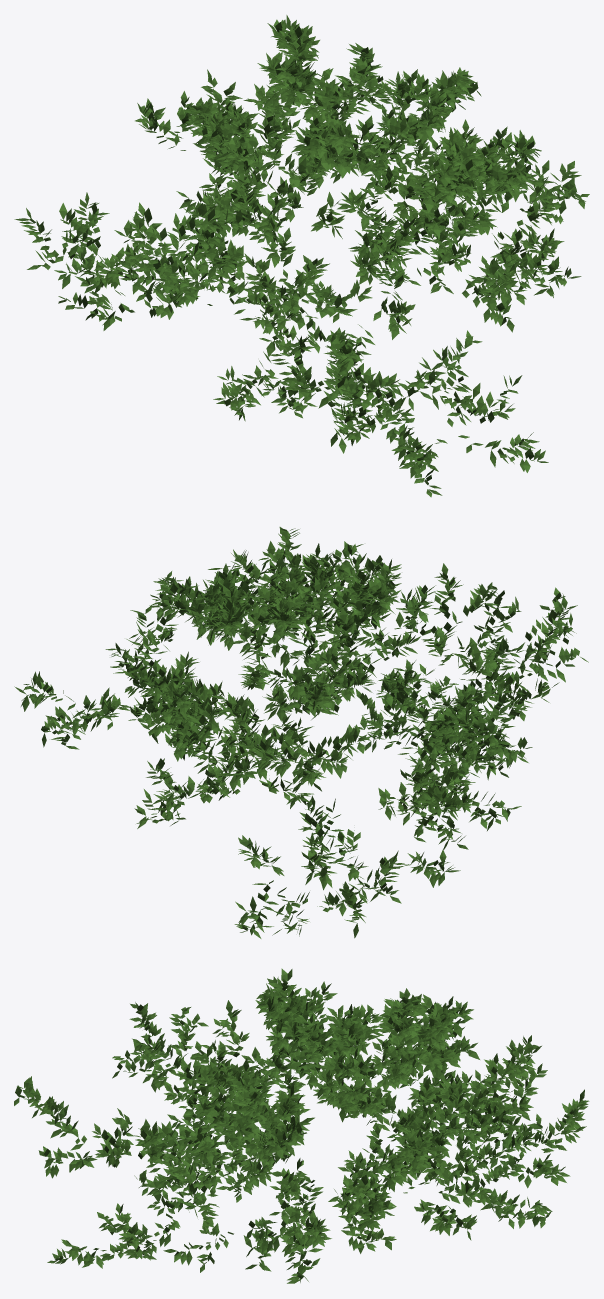
File: leaves_lod_3.glb
3 views of the same model, one above another, from view 1: azimuth 30°, elevation 25°; view 2: azimuth 150°, elevation 25°; view 3: azimuth 270°, elevation 25° (orthographic). The views are drawn at different scales.
Bounding box in the file's own units: 11.6 × 7.88 × 14.4.
